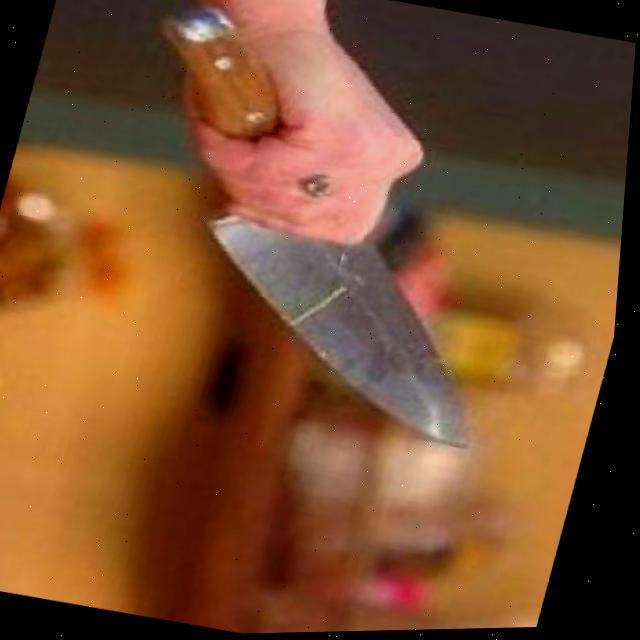knife: (71, 0, 574, 457)
